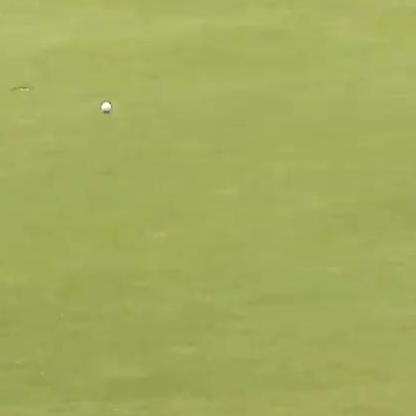golfball: (98, 100, 109, 112)
